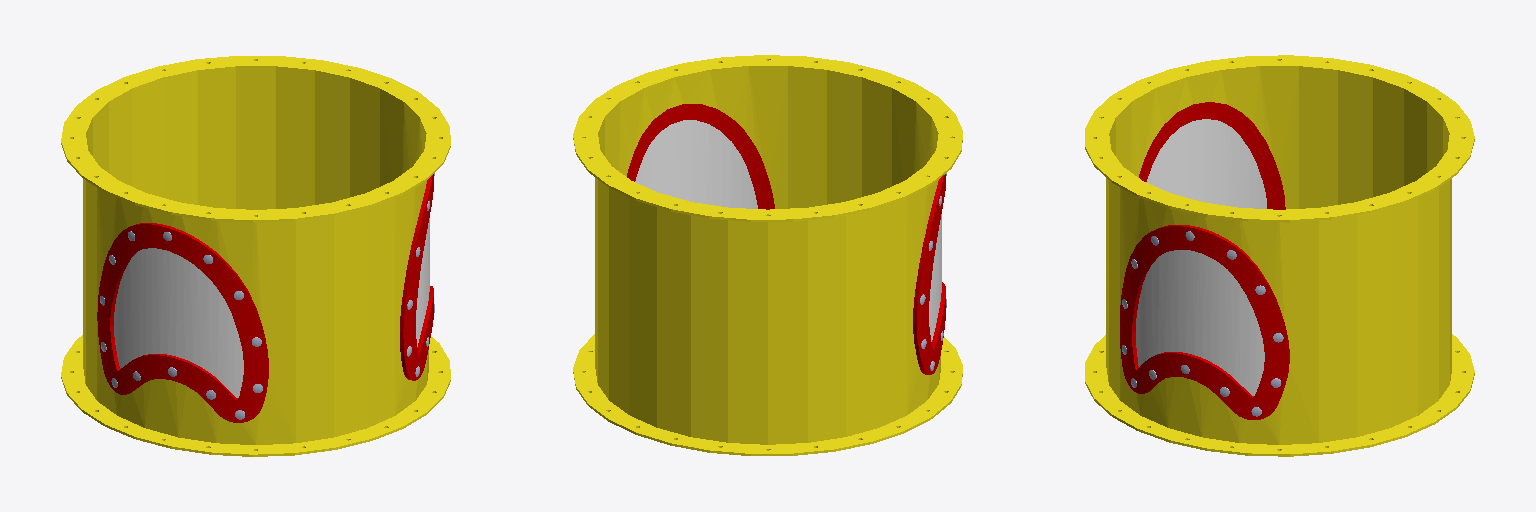
The model's file is rør-lige-590-vindow-detailed.obj.
3 renders of one model, left to right at view 1: azimuth 30°, elevation 25°; view 2: azimuth 150°, elevation 25°; view 3: azimuth 270°, elevation 25°, orthographic.
Parts seen in each view (by area): view 1: Solid1, Solid17, Solid2, Solid18, Solid33; view 2: Solid1, Solid33, Solid18, Solid2, Solid17; view 3: Solid1, Solid33, Solid18, Solid17, Solid2.
Part boxes in pixels (bbox=[...]): Solid1: bbox=[61, 56, 450, 456]; Solid17: bbox=[114, 248, 243, 397]; Solid2: bbox=[97, 223, 268, 422]; Solid18: bbox=[400, 174, 433, 380]; Solid33: bbox=[416, 218, 429, 346]; Solid1: bbox=[573, 55, 962, 455]; Solid33: bbox=[635, 120, 757, 208]; Solid18: bbox=[627, 104, 774, 209]; Solid2: bbox=[913, 174, 945, 374]; Solid17: bbox=[929, 214, 941, 341]; Solid1: bbox=[1085, 55, 1474, 456]; Solid33: bbox=[1136, 250, 1264, 395]; Solid18: bbox=[1120, 225, 1289, 419]; Solid17: bbox=[1146, 119, 1266, 208]; Solid2: bbox=[1139, 102, 1285, 209].
Bounding box in the file's own units: 0.8787 × 0.5876 × 0.8774.